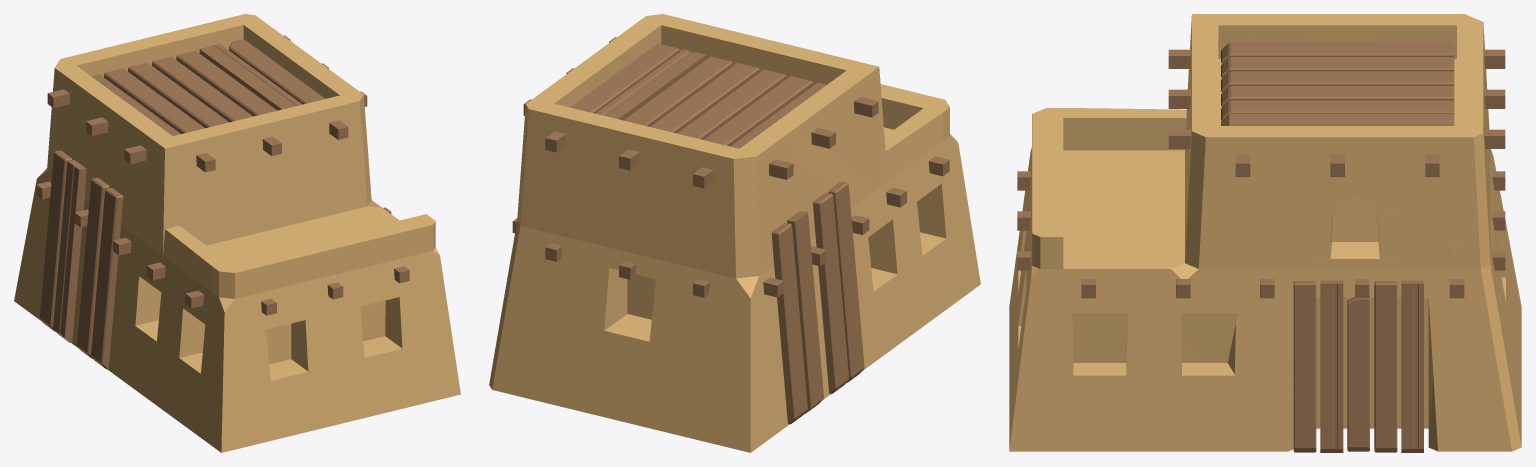
File: fracturing_house1.fbx
3 renders of one model, left to right at view 1: azimuth 30°, elevation 25°; view 2: azimuth 150°, elevation 25°; view 3: azimuth 270°, elevation 25°, orthographic. The views are drawn at different scales.
Visible parts, largest first — view 1: Cube, Cube_cell.004, Cube.032, Cube_cell.009, Cube.028, Cube_cell.022, Cube.027, Cube.031, Cube.006, Cube_cell.015, Cube.003, Cube.004 (+10 smaller); view 2: Cube, Cube_cell.002, Cube.031, Cube.027, Cube.032, Cube.028, Cube_cell.010, Cube_cell.009, Cube.006, Cube.004, Cube.003, Cube.002 (+10 smaller); view 3: Cube, Cube_cell.024, Cube_cell.017, Cube_cell.023, Cube_cell.006, Cube.041, Cube.040, Cube.043, Cube.044, Cube.042, Cube.002, Cube.004 (+12 smaller).
Boxes of the visible parts, x1=… form: Cube: x1=14, y1=14, x2=460, y2=452; Cube_cell.004: x1=315, y1=225, x2=451, y2=407; Cube.032: x1=53, y1=160, x2=86, y2=342; Cube_cell.009: x1=78, y1=122, x2=161, y2=388; Cube.028: x1=91, y1=188, x2=123, y2=369; Cube_cell.022: x1=290, y1=153, x2=370, y2=225; Cube.027: x1=77, y1=177, x2=109, y2=358; Cube.031: x1=40, y1=150, x2=72, y2=331; Cube.006: x1=199, y1=44, x2=302, y2=110; Cube_cell.015: x1=181, y1=320, x2=308, y2=371; Cube.003: x1=128, y1=62, x2=228, y2=128; Cube.004: x1=152, y1=56, x2=252, y2=122; Cube: x1=489, y1=14, x2=980, y2=452; Cube_cell.002: x1=578, y1=142, x2=688, y2=312; Cube.031: x1=771, y1=223, x2=807, y2=424; Cube.027: x1=813, y1=192, x2=848, y2=394; Cube.032: x1=787, y1=211, x2=823, y2=413; Cube.028: x1=828, y1=181, x2=864, y2=382; Cube_cell.010: x1=577, y1=188, x2=652, y2=336; Cube_cell.009: x1=790, y1=162, x2=886, y2=354; Cube.006: x1=596, y1=49, x2=708, y2=120; Cube.004: x1=650, y1=63, x2=761, y2=133; Cube.003: x1=677, y1=69, x2=788, y2=139; Cube.002: x1=704, y1=76, x2=814, y2=146; Cube: x1=1009, y1=14, x2=1521, y2=451; Cube_cell.024: x1=1355, y1=137, x2=1478, y2=247; Cube_cell.017: x1=1250, y1=137, x2=1394, y2=253; Cube_cell.023: x1=1042, y1=272, x2=1209, y2=375; Cube_cell.006: x1=1230, y1=235, x2=1320, y2=407; Cube.041: x1=1320, y1=280, x2=1343, y2=452; Cube.040: x1=1293, y1=281, x2=1316, y2=452; Cube.043: x1=1374, y1=281, x2=1397, y2=452; Cube.044: x1=1401, y1=280, x2=1423, y2=452; Cube.042: x1=1347, y1=296, x2=1369, y2=451; Cube.002: x1=1221, y1=57, x2=1454, y2=77; Cube.004: x1=1221, y1=86, x2=1454, y2=106.
Size of the model in its own units: 248 by 230 by 352.
